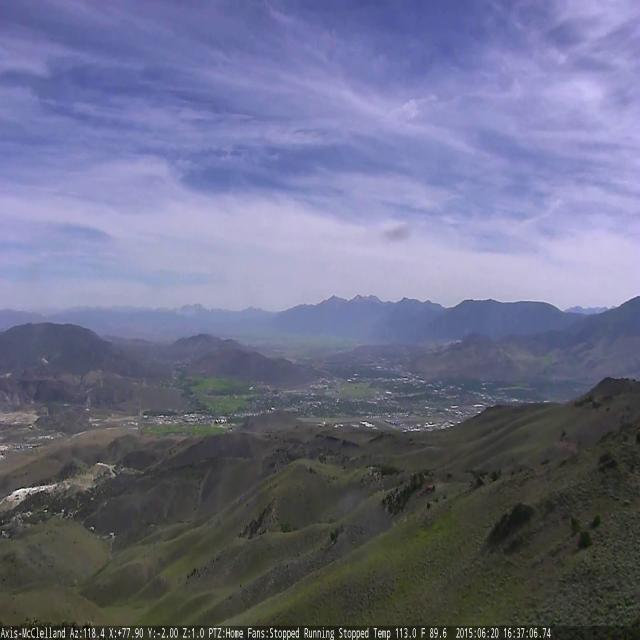smoke: (173, 301, 196, 316)
